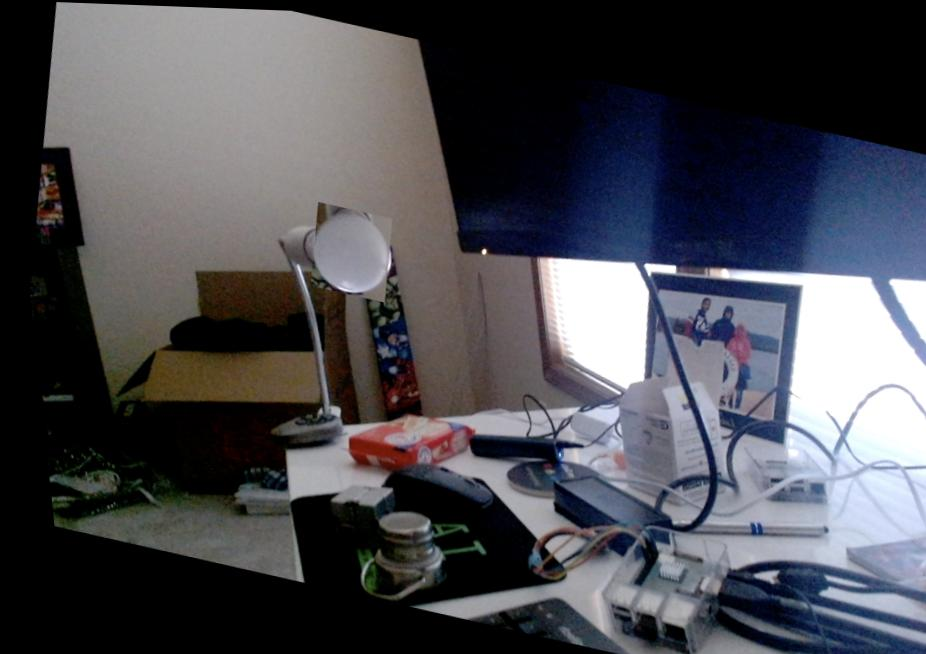Fan: (293, 200, 396, 297)
